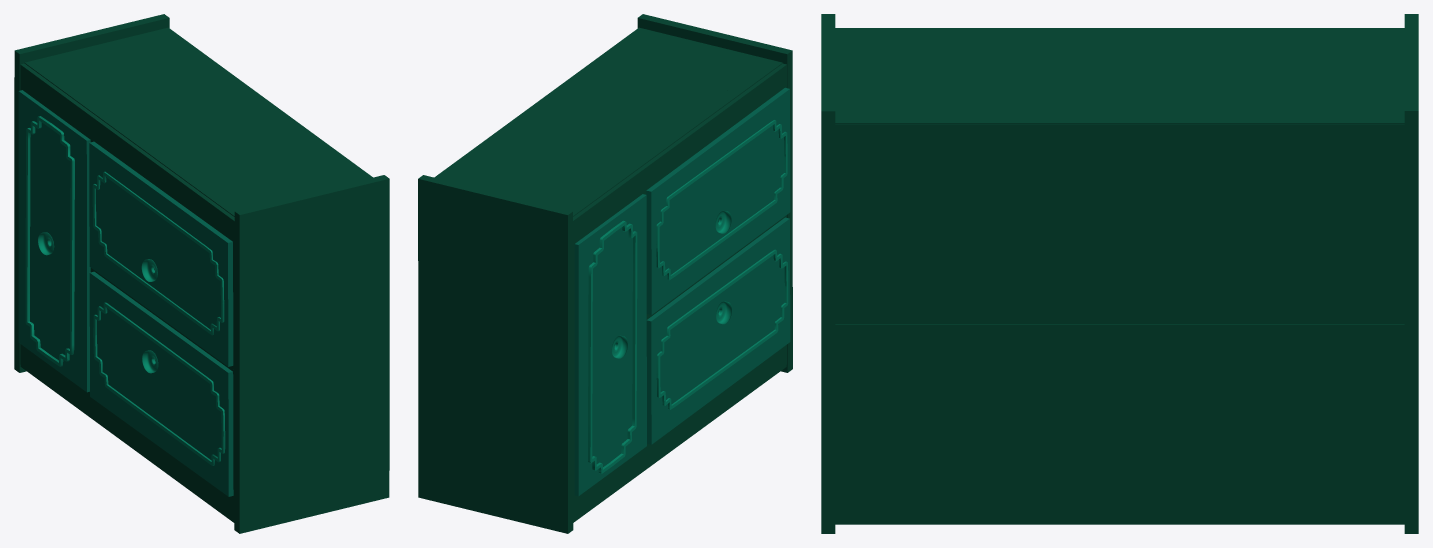
File: Wardrobe.glb
3 views of the same model, side by side, from view 1: azimuth 30°, elevation 25°; view 2: azimuth 150°, elevation 25°; view 3: azimuth 270°, elevation 25° (orthographic). The views are drawn at different scales.
Parts seen in each view (by area): view 1: s0006.2988, s0002.7536, s0009.1542, s0010.0812, s0011.2531, s0005.9337, s0004.9528, s0007.6701, s0016.2860, s0016.0893, s0015.9927, s0003.7457; view 2: s0007.6701, s0002.7536, s0009.1542, s0010.0812, s0011.2531, s0005.9337, s0004.9528, s0006.2988, s0016.2860, s0016.0893, s0015.9927, s0003.7457; view 3: s0000.7738, s0001.2325, s0002.7536, s0006.2988, s0007.6701, s0005.9337.
Part boxes in pixels (x1=…): s0006.2988: x1=234, y1=175, x2=389, y2=533; s0002.7536: x1=24, y1=27, x2=372, y2=216; s0009.1542: x1=89, y1=141, x2=233, y2=366; s0010.0812: x1=89, y1=271, x2=233, y2=496; s0011.2531: x1=18, y1=90, x2=90, y2=392; s0005.9337: x1=20, y1=63, x2=234, y2=370; s0004.9528: x1=20, y1=268, x2=234, y2=520; s0007.6701: x1=14, y1=14, x2=169, y2=372; s0016.2860: x1=25, y1=116, x2=74, y2=366; s0016.0893: x1=93, y1=302, x2=225, y2=465; s0015.9927: x1=92, y1=171, x2=224, y2=334; s0003.7457: x1=20, y1=365, x2=234, y2=522; s0007.6701: x1=418, y1=175, x2=573, y2=533; s0002.7536: x1=434, y1=27, x2=782, y2=216; s0009.1542: x1=646, y1=87, x2=790, y2=314; s0010.0812: x1=646, y1=217, x2=790, y2=444; s0011.2531: x1=574, y1=194, x2=646, y2=496; s0005.9337: x1=573, y1=63, x2=786, y2=370; s0004.9528: x1=573, y1=215, x2=786, y2=520; s0006.2988: x1=637, y1=14, x2=792, y2=372; s0016.2860: x1=588, y1=220, x2=637, y2=473; s0016.0893: x1=656, y1=249, x2=788, y2=409; s0015.9927: x1=656, y1=120, x2=787, y2=280; s0003.7457: x1=573, y1=365, x2=786, y2=522; s0000.7738: x1=835, y1=124, x2=1404, y2=324; s0001.2325: x1=835, y1=324, x2=1404, y2=524; s0002.7536: x1=835, y1=29, x2=1404, y2=124; s0006.2988: x1=821, y1=14, x2=835, y2=533; s0007.6701: x1=1404, y1=14, x2=1418, y2=533; s0005.9337: x1=835, y1=28, x2=1404, y2=29.
Bounding box in the file's own units: 1.41 × 2.6 × 3.33.
